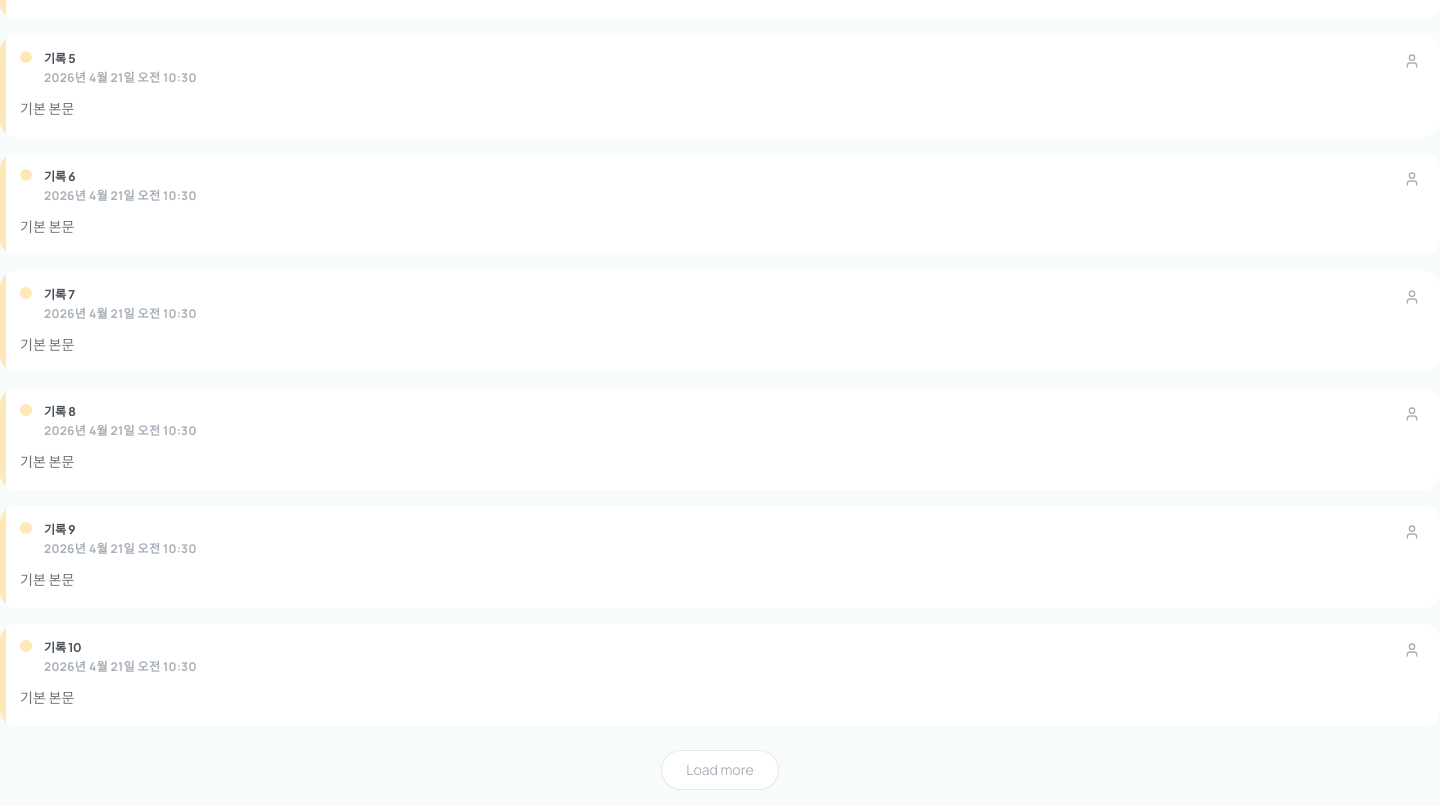
MemoriesListView › 더 보기 버튼은 다음 페이지를 append 하고 offset을 증가시킨다
(page scrolled)
Expected: the heading "기록 10" is shown, [44,640,82,655]
Step 1. Click the button "Load more" → (720, 770), box [661,750,779,790]
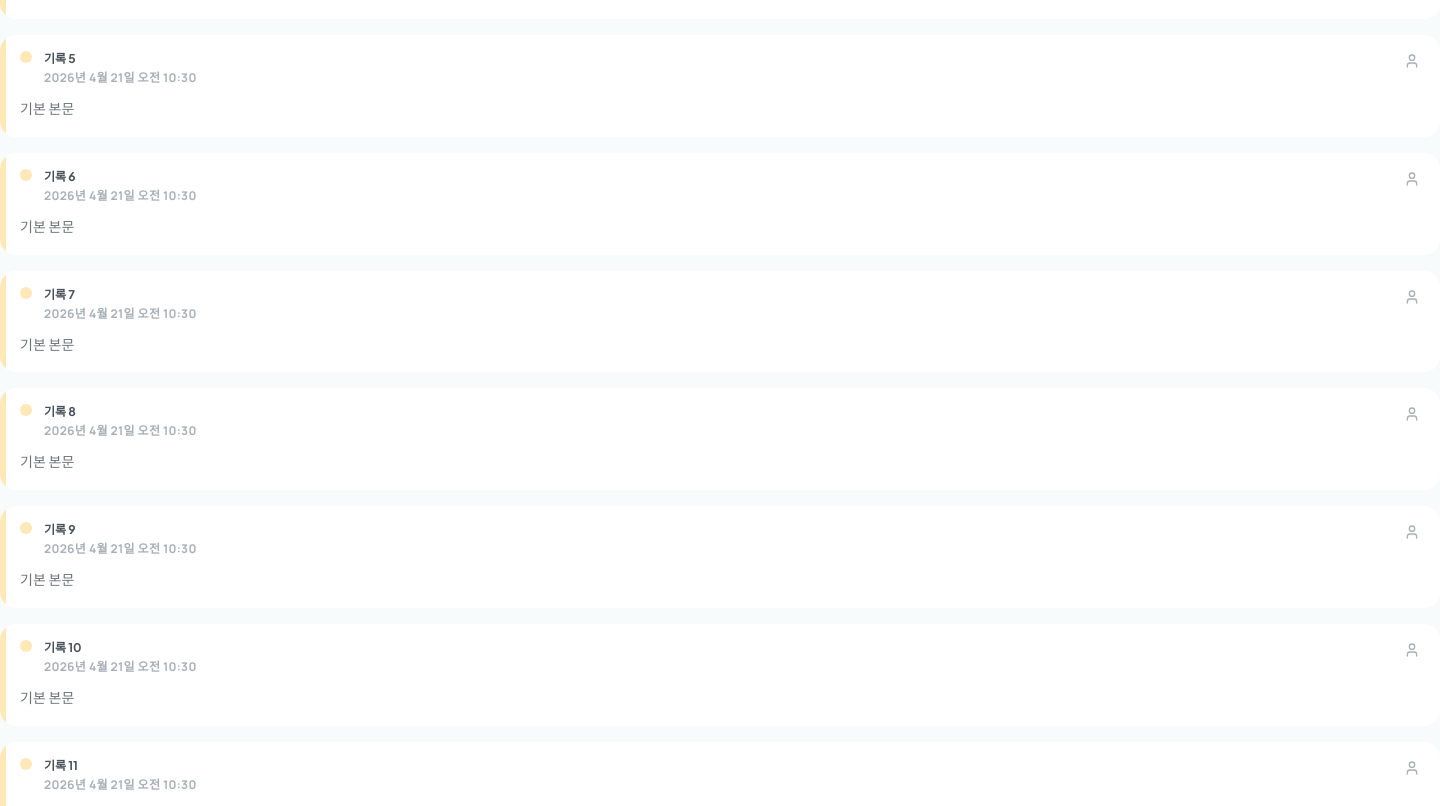
Expected: the heading "기록 11" is shown, [44,758,78,772]
Expected: the button "Load more" is gone
